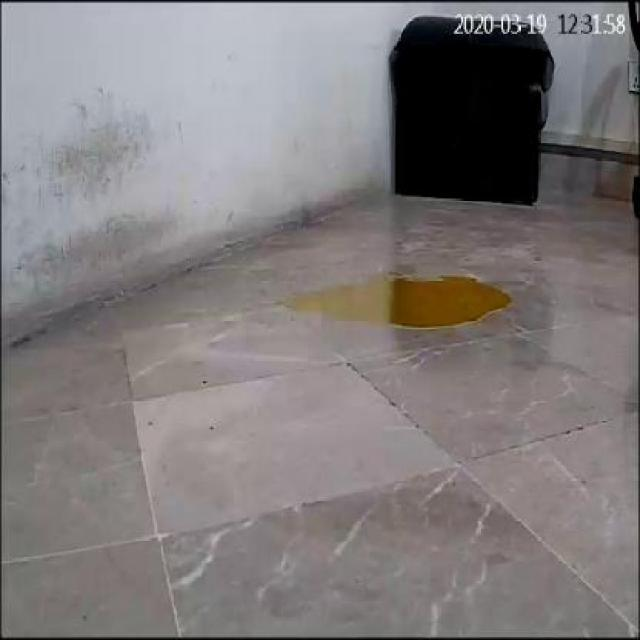spill: (282, 269, 516, 328)
